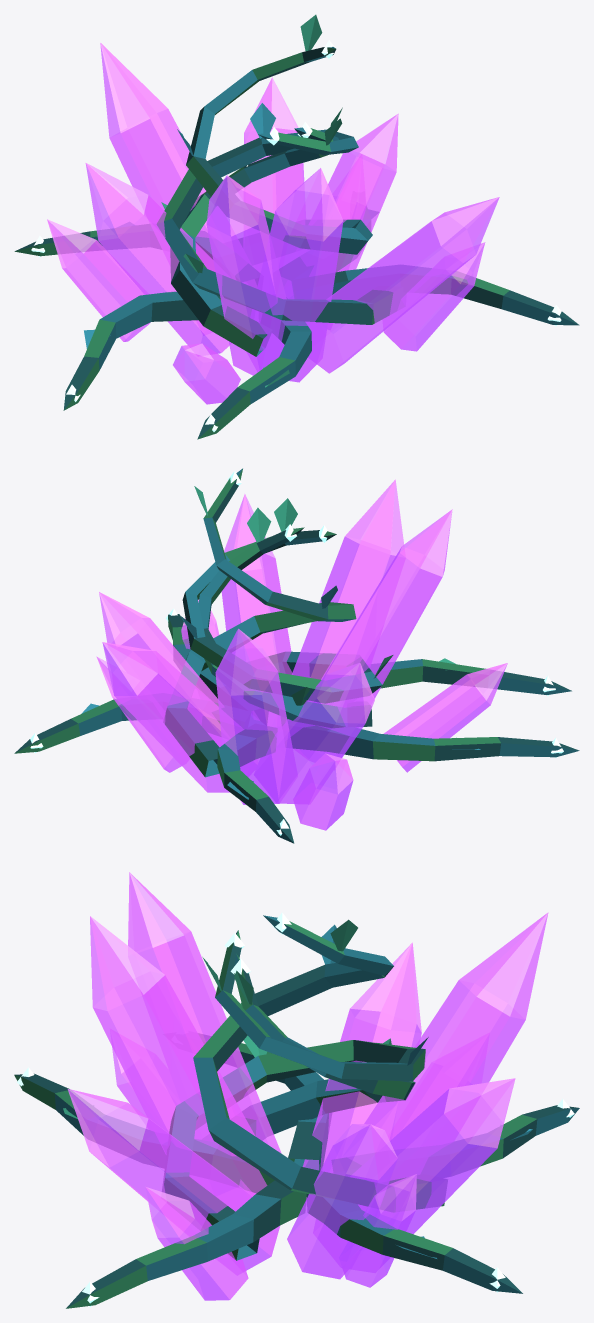
The model's file is Nyxium - Cluster B-Bxk6vZ4I.glb.
The picture shows the model from 3 angles, top to bottom: view 1: azimuth 30°, elevation 25°; view 2: azimuth 150°, elevation 25°; view 3: azimuth 270°, elevation 25°; orthographic projection. The views are drawn at different scales.
Parts seen in each view (by area): view 1: crystal, vines, buds; view 2: crystal, vines, buds; view 3: crystal, vines, buds.
Part boxes in pixels (bbox=[...]): crystal: bbox=[47, 43, 499, 404]; vines: bbox=[14, 14, 579, 439]; buds: bbox=[31, 40, 561, 435]; crystal: bbox=[96, 479, 507, 830]; vines: bbox=[14, 468, 579, 843]; buds: bbox=[30, 471, 563, 835]; crystal: bbox=[67, 872, 548, 1300]; vines: bbox=[14, 915, 579, 1308]; buds: bbox=[17, 912, 574, 1306].
Bounding box in the file's own units: 0.8749 × 0.5478 × 0.7627.
